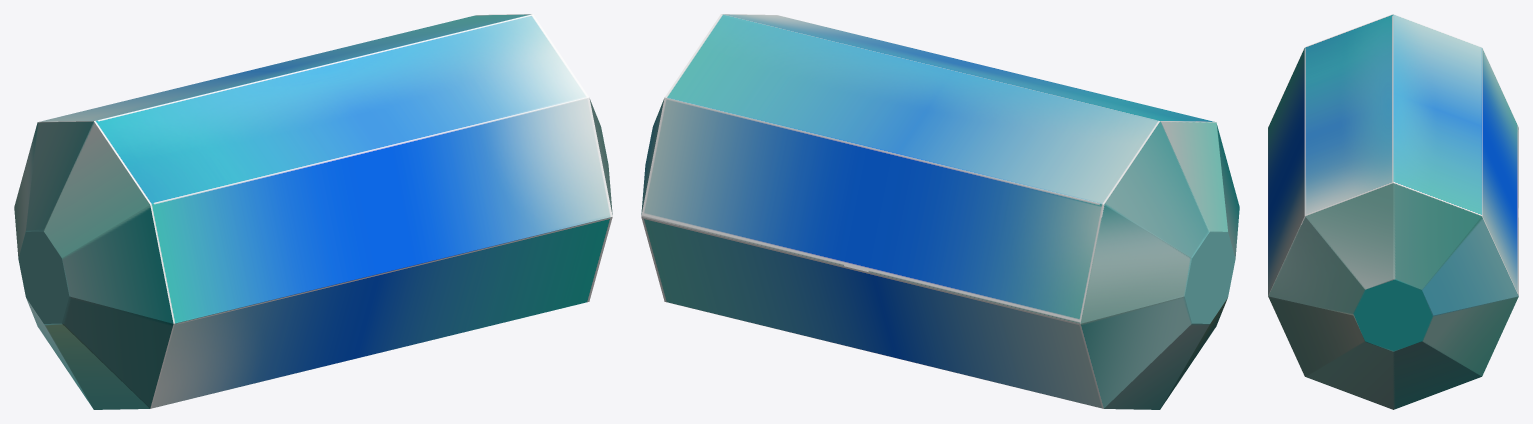
Rendered from maskB_1.obj.
The picture shows the model from 3 angles, left to right: view 1: azimuth 30°, elevation 25°; view 2: azimuth 150°, elevation 25°; view 3: azimuth 270°, elevation 25°; orthographic projection. The views are drawn at different scales.
Visible parts, largest first — view 1: head; view 2: head; view 3: head.
Boxes of the visible parts, left/top/right/bottom form: head: left=14, top=14, right=612, bottom=409; head: left=641, top=14, right=1239, bottom=409; head: left=1268, top=14, right=1518, bottom=409.
Bounding box in the file's own units: 205 × 105 × 105.
1 material, 1 textured.
